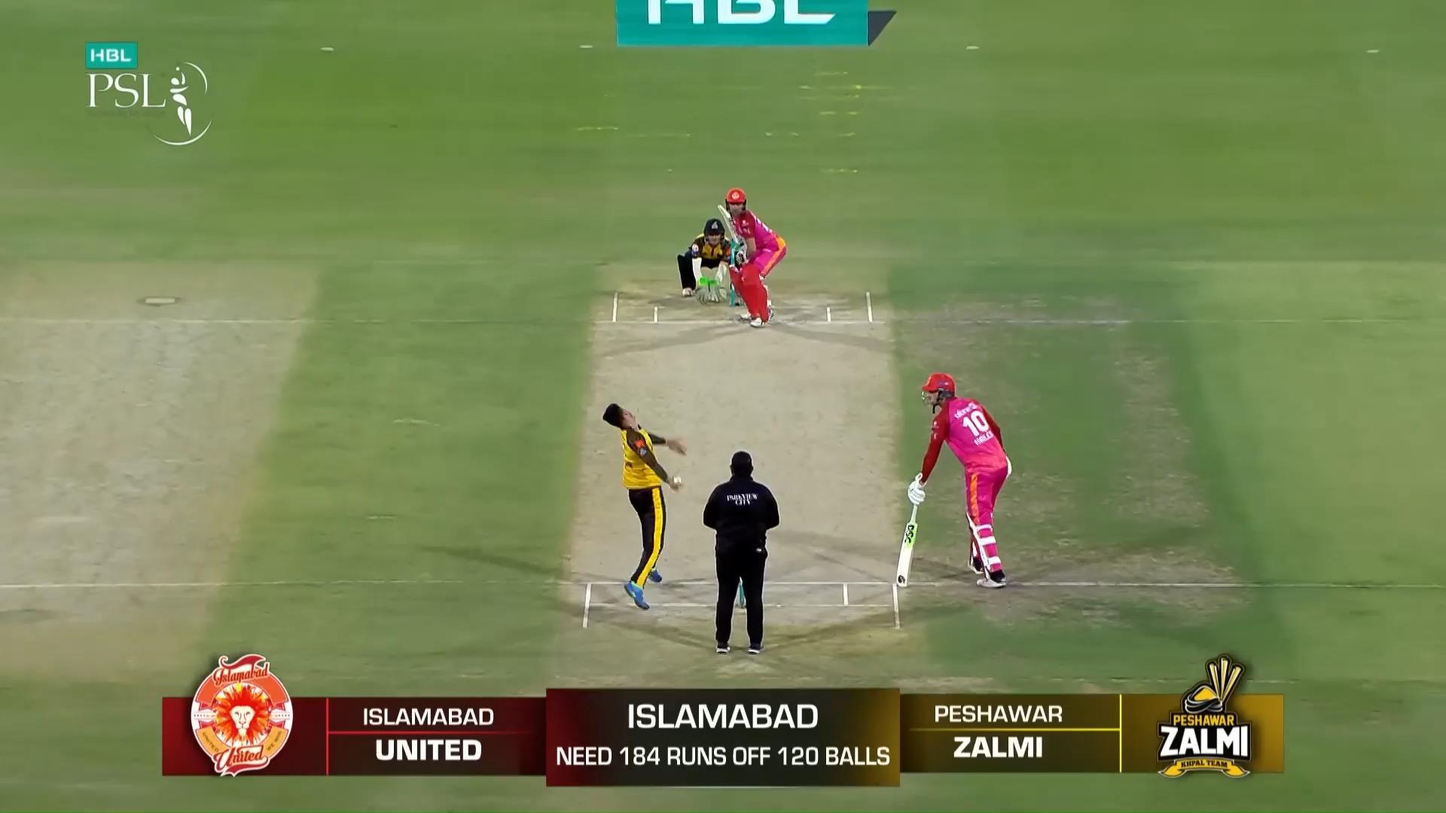batsman: (718, 187, 787, 328)
